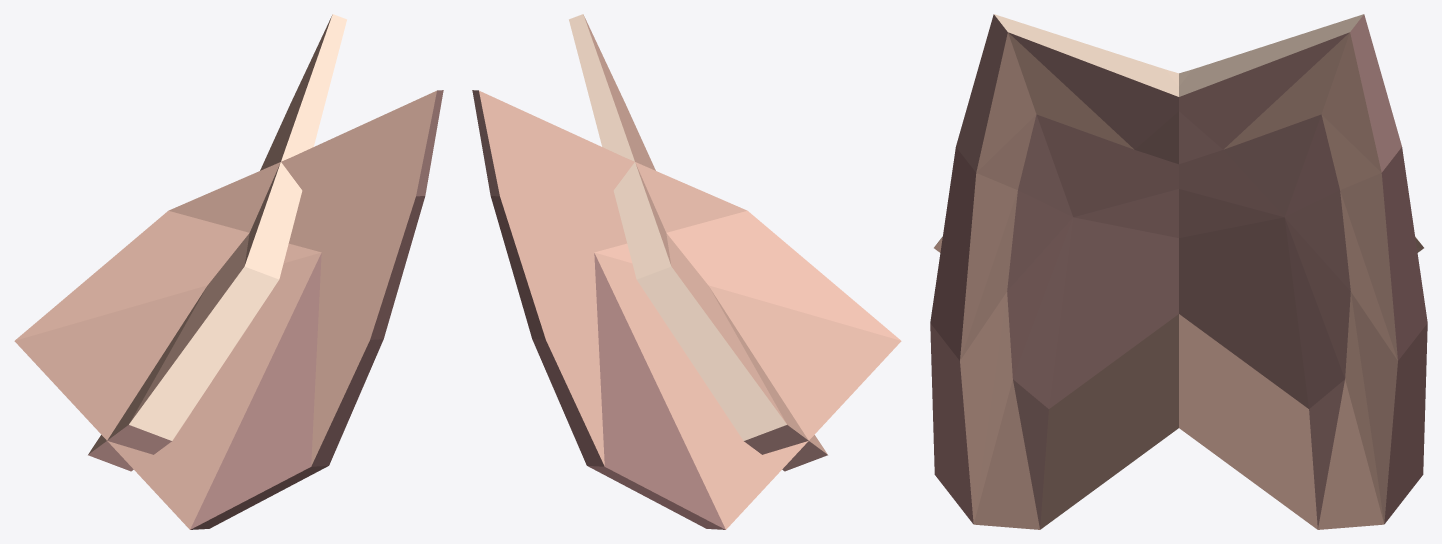
The model's file is gn_tall.glb.
3 renders of one model, left to right at view 1: azimuth 30°, elevation 25°; view 2: azimuth 150°, elevation 25°; view 3: azimuth 270°, elevation 25°, orthographic. The views are drawn at different scales.
Visible parts, largest first — view 1: Ear_R, Ear_L; view 2: Ear_L, Ear_R; view 3: Ear_L, Ear_R.
Boxes of the visible parts, x1,y1,x2,y2 form: Ear_R: (14, 90, 443, 529); Ear_L: (88, 14, 346, 471); Ear_L: (472, 90, 901, 529); Ear_R: (569, 14, 827, 471); Ear_L: (934, 14, 1427, 529); Ear_R: (930, 14, 1423, 529).
Bounding box in the file's own units: 0.072 × 0.0841 × 0.054.
1 material, 1 textured.
